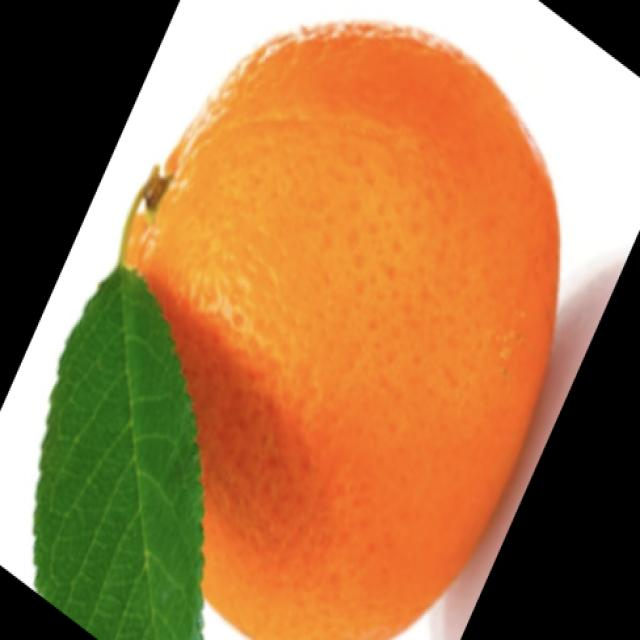fresh: (19, 10, 586, 636)
